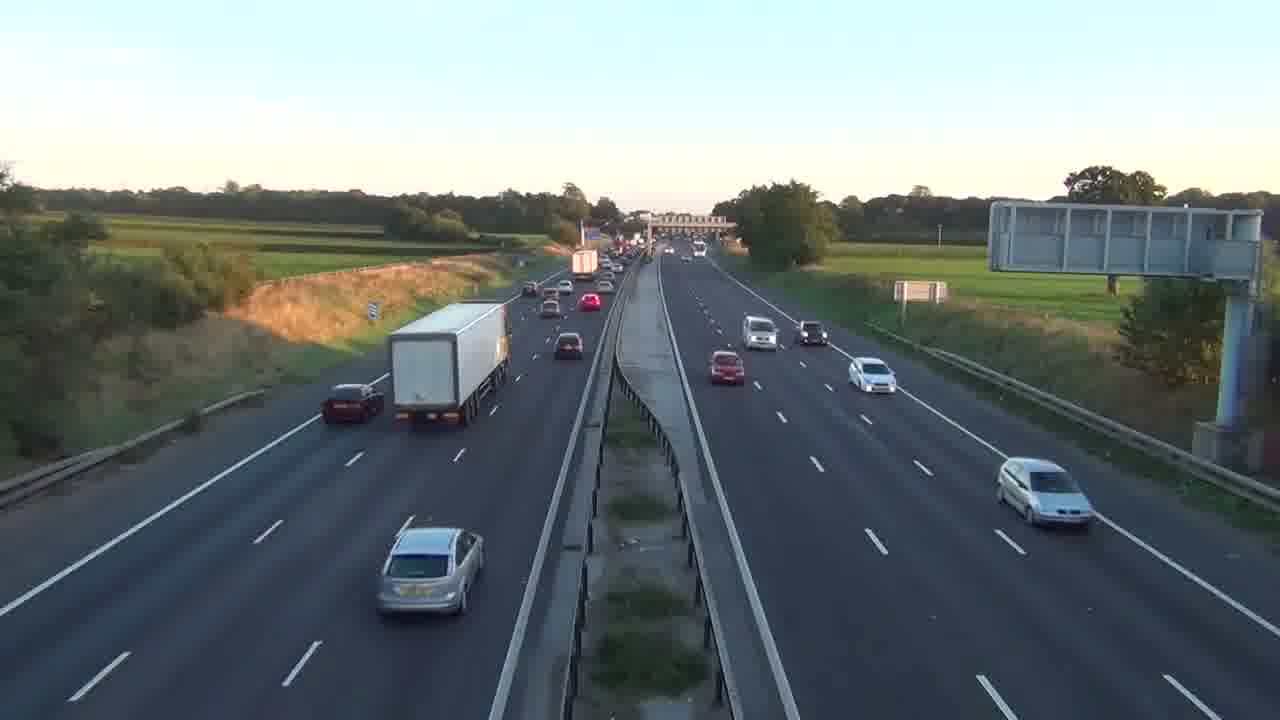car: (375, 516, 486, 617), (995, 456, 1094, 529), (321, 383, 384, 424), (847, 356, 898, 394), (708, 348, 745, 386), (554, 331, 584, 360), (577, 292, 602, 312)
truck: (390, 301, 510, 427)
